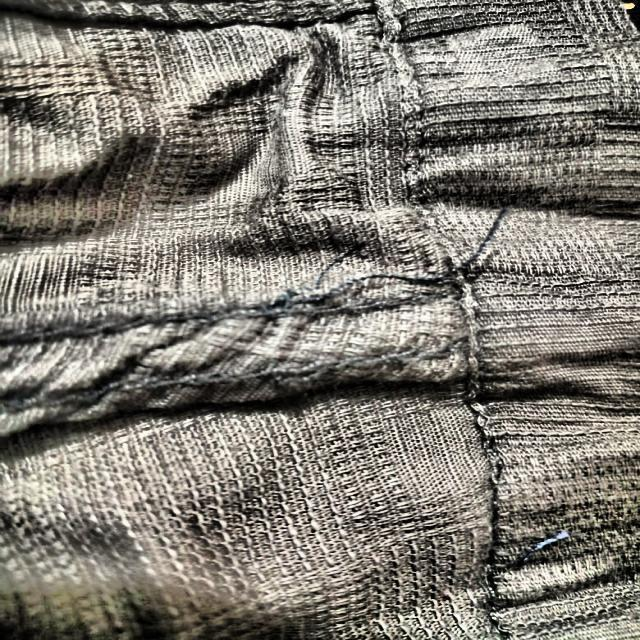gray stitch: (274, 187, 548, 342)
